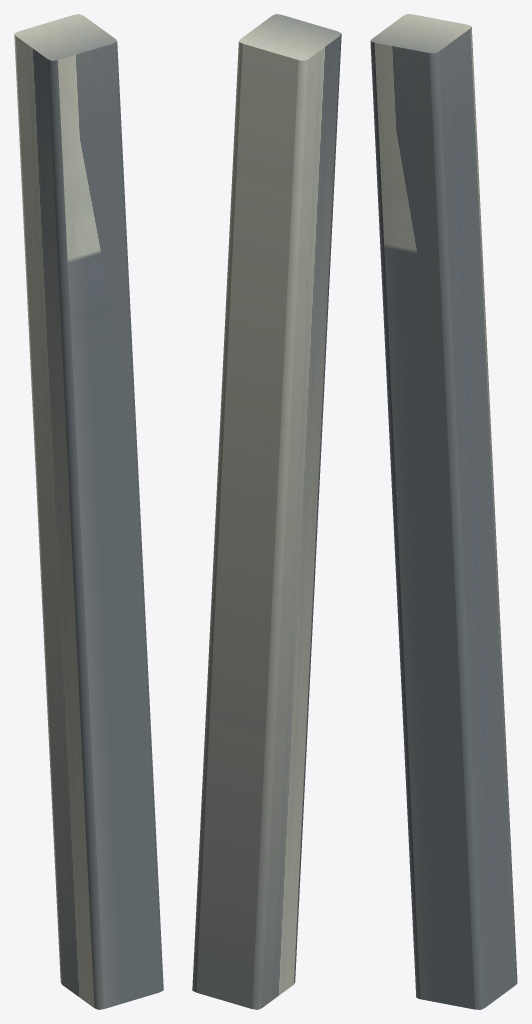
File: LobbyFallenPillar.fbx
3 renders of one model, left to right at view 1: azimuth 30°, elevation 25°; view 2: azimuth 150°, elevation 25°; view 3: azimuth 330°, elevation 25°, orthographic.
Parts seen in each view (by area): view 1: Piller_14; view 2: Piller_14; view 3: Piller_14.
Boxes of the visible parts, x1,y1,x2,y2 form: Piller_14: (14, 14, 163, 1009); Piller_14: (192, 14, 341, 1009); Piller_14: (370, 14, 517, 1009).
Size of the model in its own units: 167 by 1343 by 99.49.
Materials: 1 (1 with a texture image).
